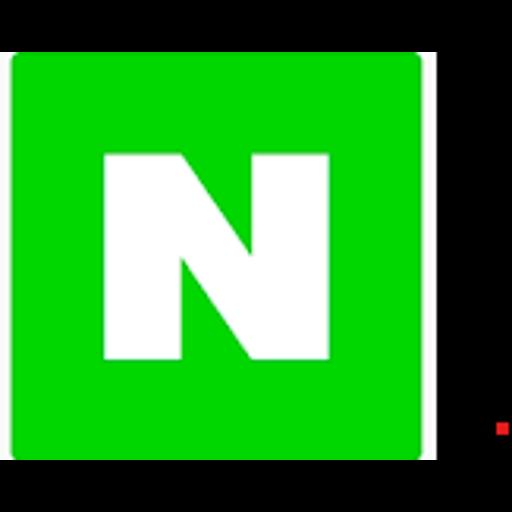Naver: (0, 52, 512, 460)
